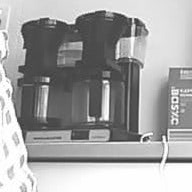not empty coffee: (16, 76, 67, 131)
